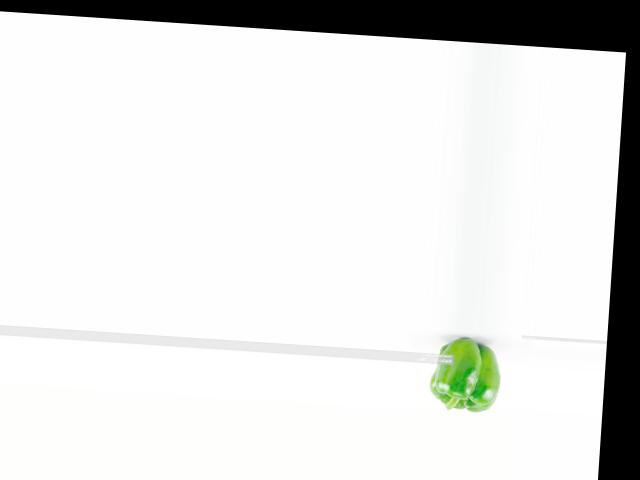bell_pepper: (429, 332, 506, 417)
